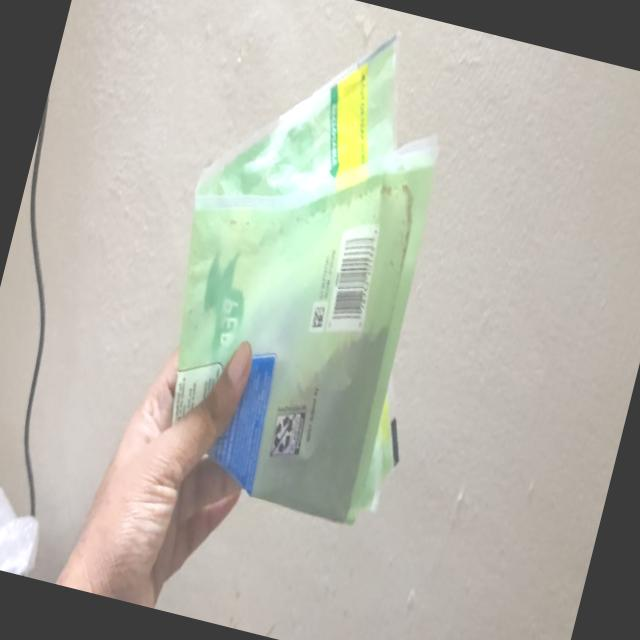Plastic - Recyclable: (122, 0, 486, 529)
